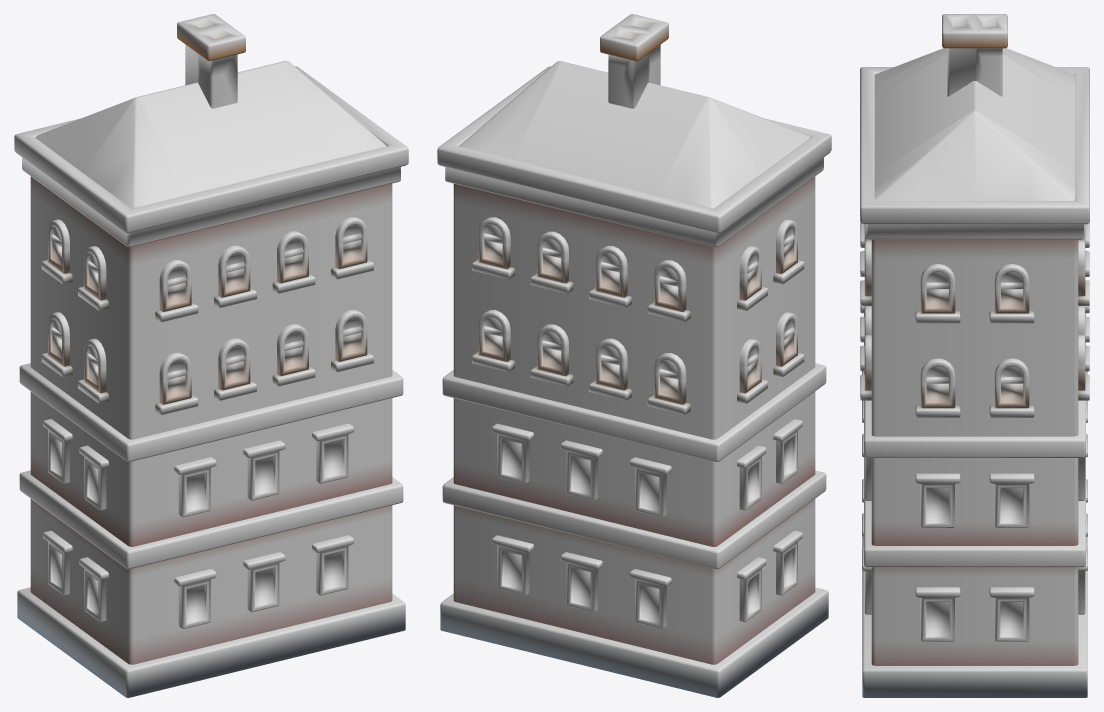
File: Building_098.fbx
3 views of the same model, side by side, from view 1: azimuth 30°, elevation 25°; view 2: azimuth 150°, elevation 25°; view 3: azimuth 270°, elevation 25° (orthographic).
Parts seen in each view (by area): view 1: Building_098; view 2: Building_098; view 3: Building_098.
Part boxes in pixels (x1,y1,x2,y2): Building_098: [14, 14, 408, 697]; Building_098: [437, 14, 831, 697]; Building_098: [860, 14, 1089, 697].
Bounding box in the file's own units: 967 × 667 × 1940.
